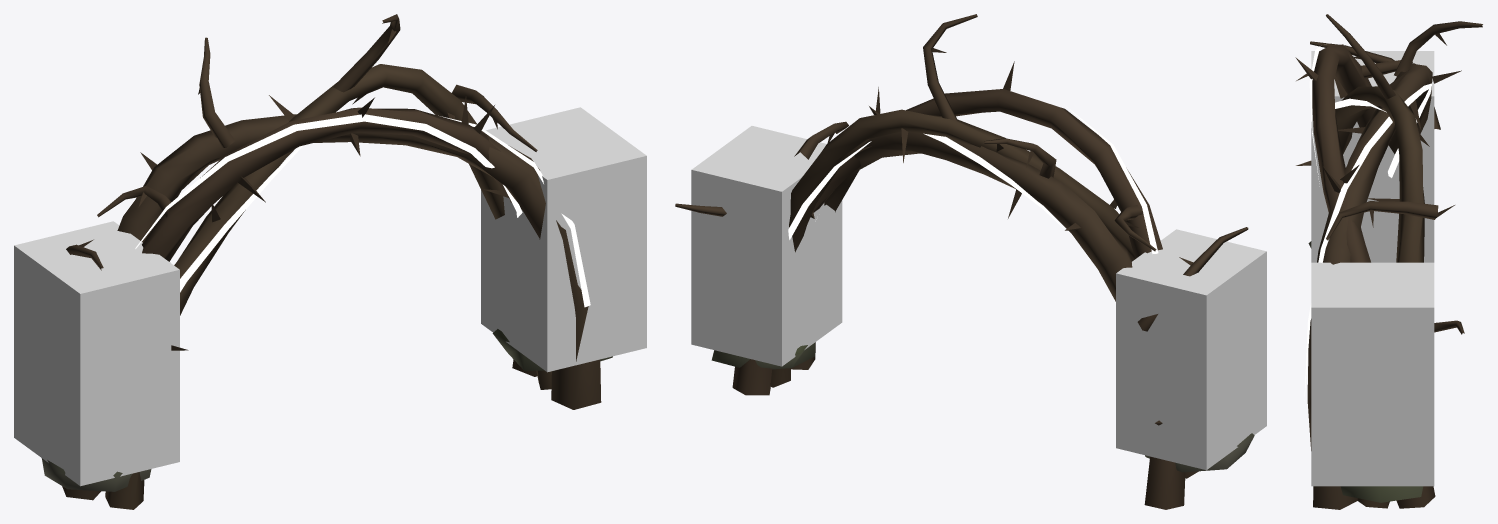
File: bramble_arch.glb
3 renders of one model, left to right at view 1: azimuth 30°, elevation 25°; view 2: azimuth 150°, elevation 25°; view 3: azimuth 270°, elevation 25°, orthographic. The views are drawn at different scales.
Visible parts, largest first — view 1: bramble_arch, COL_base_l, COL_base_r; view 2: bramble_arch, COL_base_l, COL_base_r; view 3: COL_base_r, bramble_arch, COL_base_l.
Boxes of the visible parts, x1,y1,x2,y2 form: bramble_arch: (41,14,612,509); COL_base_l: (14,221,179,486); COL_base_r: (481,107,646,372); bramble_arch: (675,14,1254,509); COL_base_l: (1116,229,1266,470); COL_base_r: (691,126,842,366); COL_base_r: (1311,262,1434,486); bramble_arch: (1295,14,1482,509); COL_base_l: (1311,51,1434,262).
Size of the model in its own units: 7.46 by 5.55 by 2.3.
